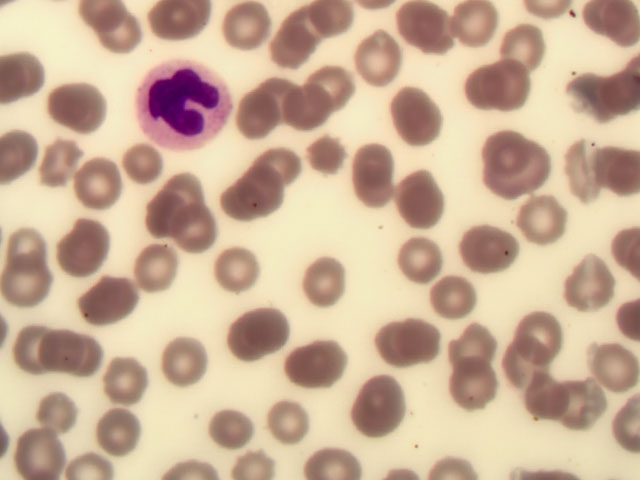RBC: (100, 8, 149, 55), (62, 86, 111, 133), (44, 137, 93, 184), (69, 157, 118, 204), (111, 141, 160, 188), (131, 190, 180, 237), (155, 167, 204, 214), (170, 216, 219, 263), (217, 181, 266, 228), (236, 160, 285, 207), (253, 139, 302, 186), (231, 95, 280, 142), (249, 70, 298, 117), (288, 95, 337, 142), (314, 61, 363, 108), (271, 35, 320, 82), (291, 3, 340, 50), (210, 2, 259, 49), (360, 35, 409, 82), (390, 91, 439, 138), (462, 65, 511, 112), (489, 61, 538, 108), (504, 17, 553, 64), (460, 5, 509, 52), (408, 5, 457, 52), (477, 119, 526, 166), (495, 149, 544, 196), (553, 141, 602, 188), (591, 143, 640, 190), (589, 73, 638, 120), (591, 3, 640, 50), (563, 257, 612, 304), (529, 197, 578, 244), (471, 222, 520, 269), (400, 176, 449, 223), (358, 170, 407, 217), (349, 133, 398, 180), (307, 134, 356, 181), (303, 260, 352, 307), (396, 236, 445, 283), (433, 272, 482, 319), (449, 321, 498, 368), (507, 309, 556, 356), (499, 339, 548, 386), (514, 365, 563, 412), (559, 379, 608, 426), (581, 347, 630, 394), (450, 365, 499, 412), (403, 314, 452, 361), (371, 318, 420, 365), (350, 383, 399, 430), (289, 336, 338, 383), (239, 309, 288, 356), (221, 245, 270, 292), (167, 330, 216, 377), (108, 354, 157, 401), (59, 333, 108, 380), (34, 322, 83, 369), (18, 327, 67, 374), (3, 256, 52, 303), (56, 229, 105, 276), (80, 278, 129, 325), (129, 245, 178, 292), (100, 406, 149, 453), (18, 433, 67, 480), (31, 387, 80, 434), (202, 403, 251, 450), (267, 402, 316, 449)
WBC: (134, 61, 234, 149)
